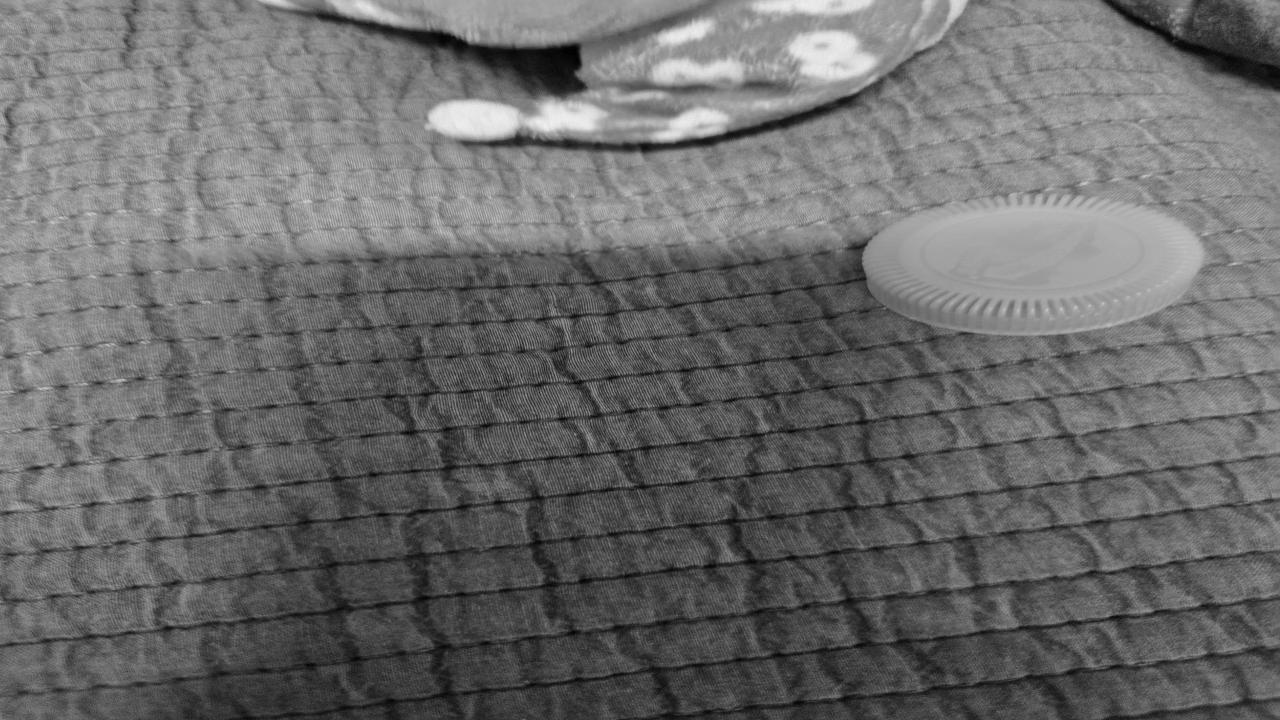bottle_cap: (866, 195, 1203, 332)
